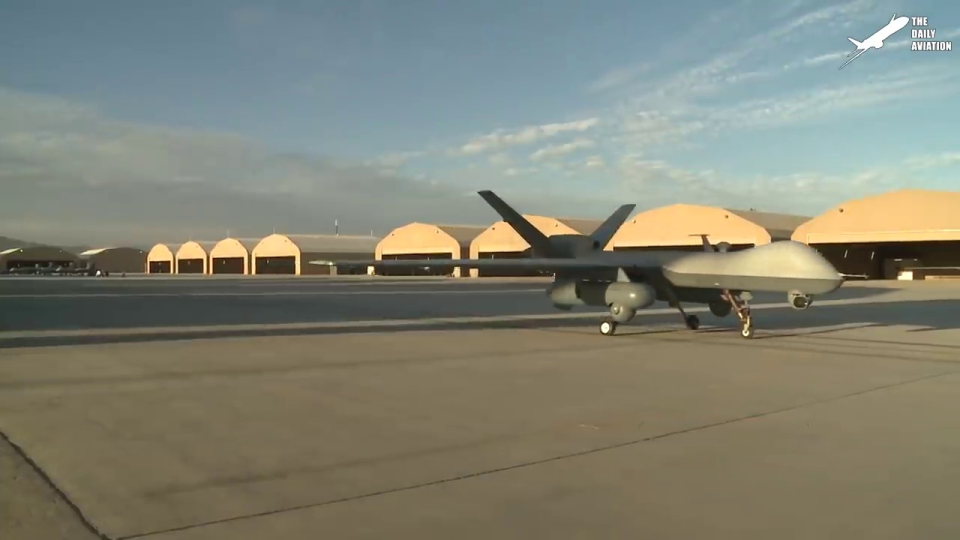military drone: (309, 190, 869, 338)
